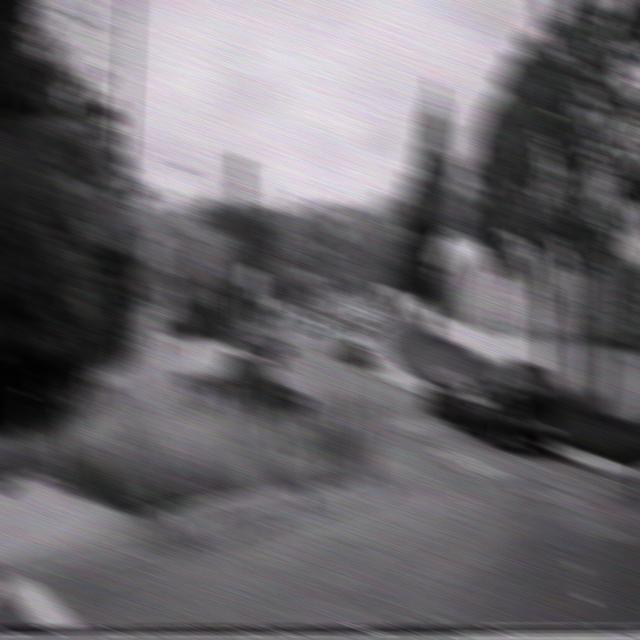speedLimit25: (318, 289, 343, 333)
